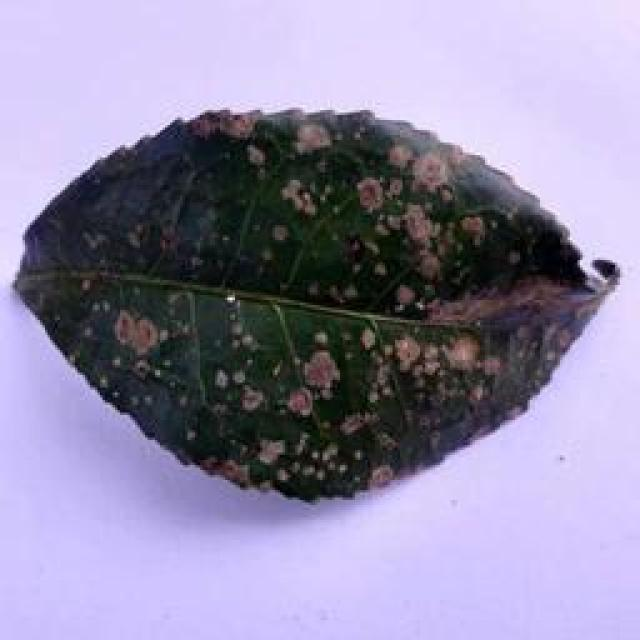Algal Leaf Spot: (18, 100, 620, 508)
